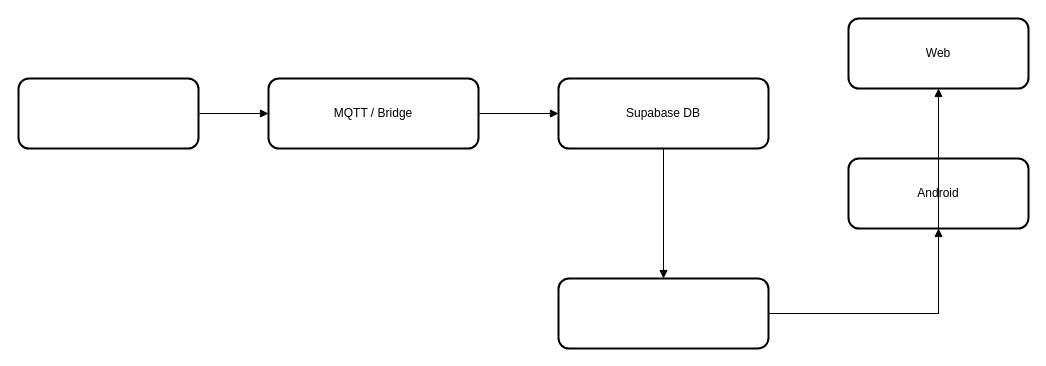
Some shapes in this 1046 by 366 pixel diagram are drawn without their labels. The shapes that lost their labels are listed below. From the top down, each one's centre as x and y in pixels, then its label:
the point at 108,113: ESP8266
the point at 663,313: Realtime
